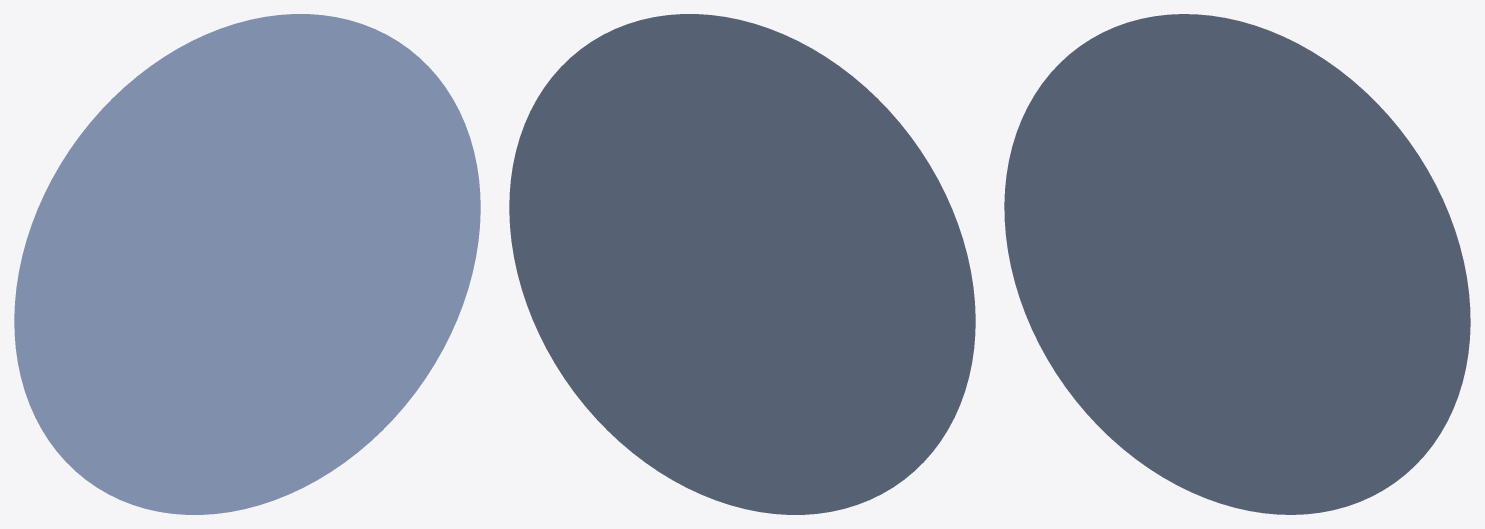
Rendered from original-5.obj.
3 renders of one model, left to right at view 1: azimuth 30°, elevation 25°; view 2: azimuth 150°, elevation 25°; view 3: azimuth 330°, elevation 25°, orthographic.
Parts seen in each view (by area): view 1: group_2/ID33#ID33; view 2: group_2/ID33#ID33; view 3: group_2/ID33#ID33.
Boxes of the visible parts, left/top/right/bottom form: group_2/ID33#ID33: left=14, top=14, right=480, bottom=514; group_2/ID33#ID33: left=509, top=14, right=975, bottom=514; group_2/ID33#ID33: left=1004, top=14, right=1470, bottom=514.
Bounding box in the file's own units: 0.5785 × 0.5785 × 0.
